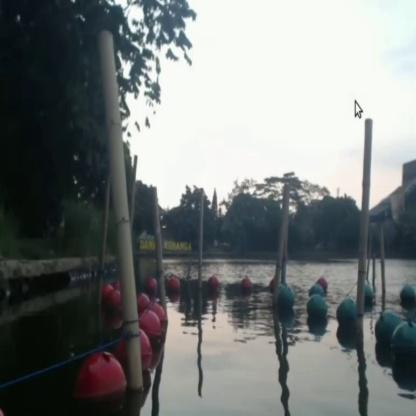green_buoy: (393, 321, 415, 376), (335, 296, 355, 336), (374, 312, 393, 350), (277, 284, 295, 316), (306, 294, 324, 324), (399, 284, 415, 310), (366, 282, 374, 310)
red_buoy: (74, 358, 124, 414), (142, 313, 160, 347), (152, 303, 168, 331), (140, 332, 152, 368), (109, 291, 121, 319), (238, 274, 252, 296), (168, 276, 181, 298), (207, 275, 219, 295), (146, 280, 158, 298), (105, 287, 113, 303), (318, 277, 326, 285)
